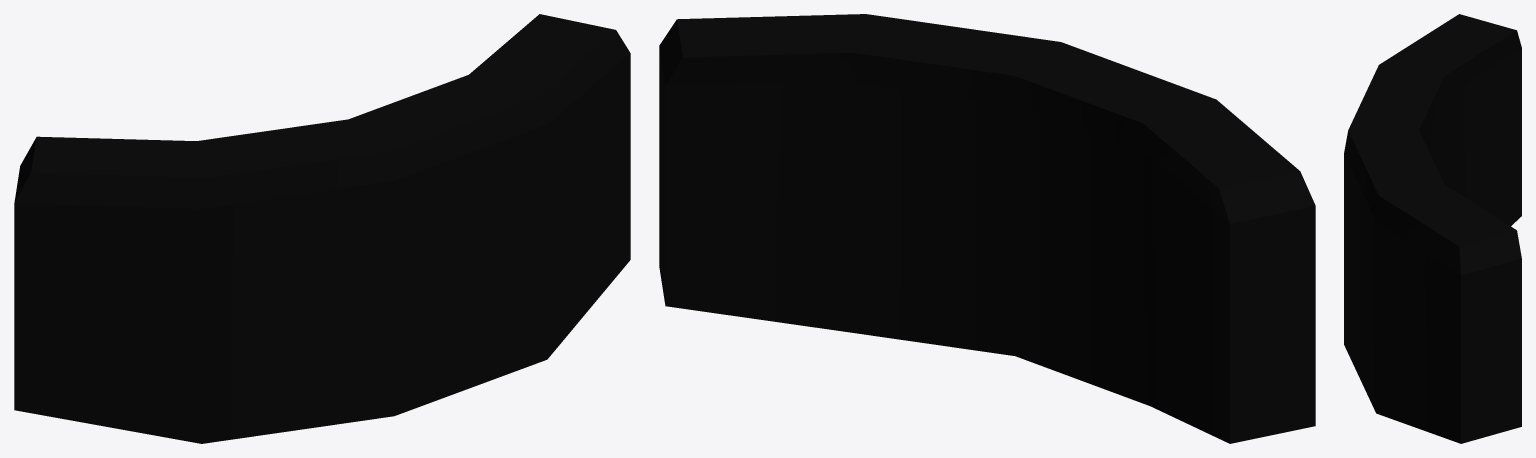
The model's file is Leg_Prop_Cooking_Apron_Bib_01_C02.fbx.
The picture shows the model from 3 angles, left to right: view 1: azimuth 30°, elevation 25°; view 2: azimuth 150°, elevation 25°; view 3: azimuth 270°, elevation 25°; orthographic projection. The views are drawn at different scales.
Parts seen in each view (by area): view 1: Leg_Prop_Cooking_Apron_Bib_01_C02; view 2: Leg_Prop_Cooking_Apron_Bib_01_C02; view 3: Leg_Prop_Cooking_Apron_Bib_01_C02.
Boxes of the visible parts, x1,y1,x2,y2 form: Leg_Prop_Cooking_Apron_Bib_01_C02: [14, 14, 630, 443]; Leg_Prop_Cooking_Apron_Bib_01_C02: [659, 14, 1315, 443]; Leg_Prop_Cooking_Apron_Bib_01_C02: [1344, 14, 1521, 443].
Size of the model in its own units: 78.47 by 32.02 by 24.07.
